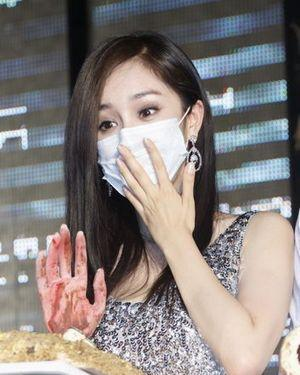OK: (87, 88, 200, 201)
